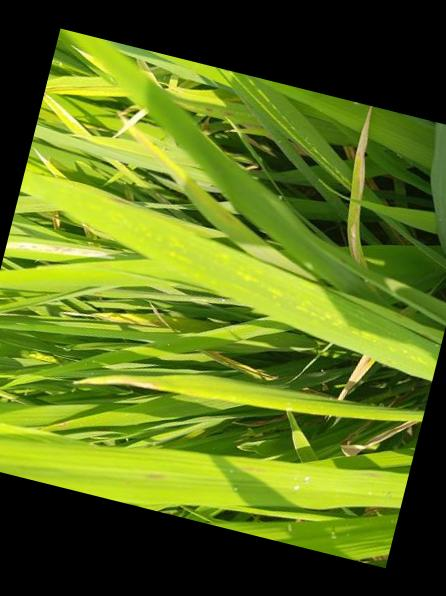Leaf Streak: (20, 166, 431, 363), (5, 234, 117, 261), (352, 105, 374, 199), (349, 200, 363, 264)
